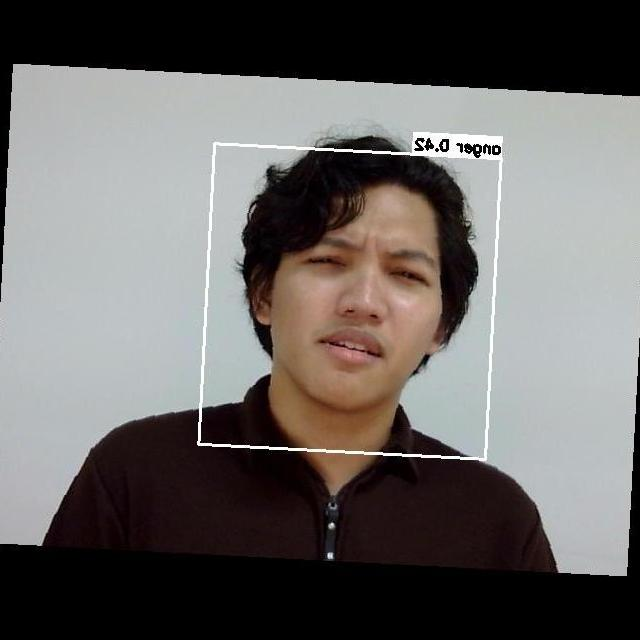Sad: (259, 211, 449, 382)
